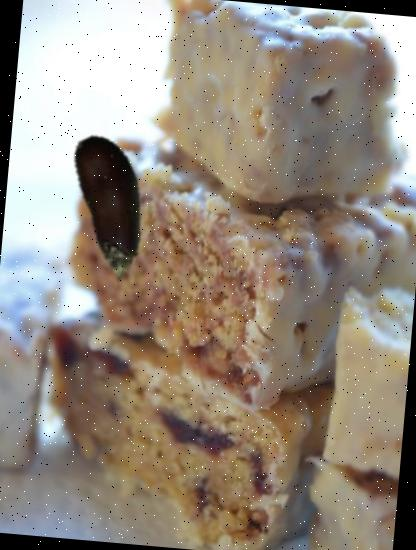Eggplant: (33, 123, 196, 286)
